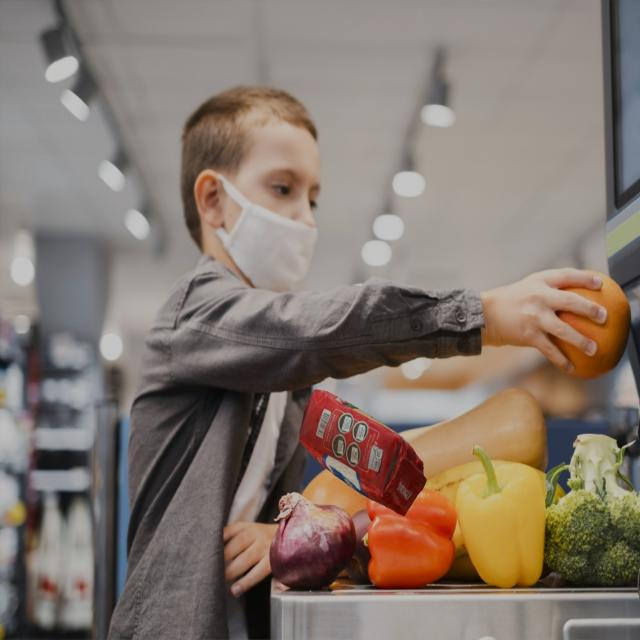mate bag: (302, 384, 422, 514)
